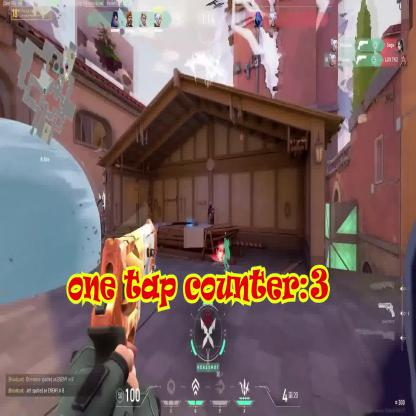enemy: (207, 202, 215, 242)
enemy_head: (209, 203, 212, 208)
